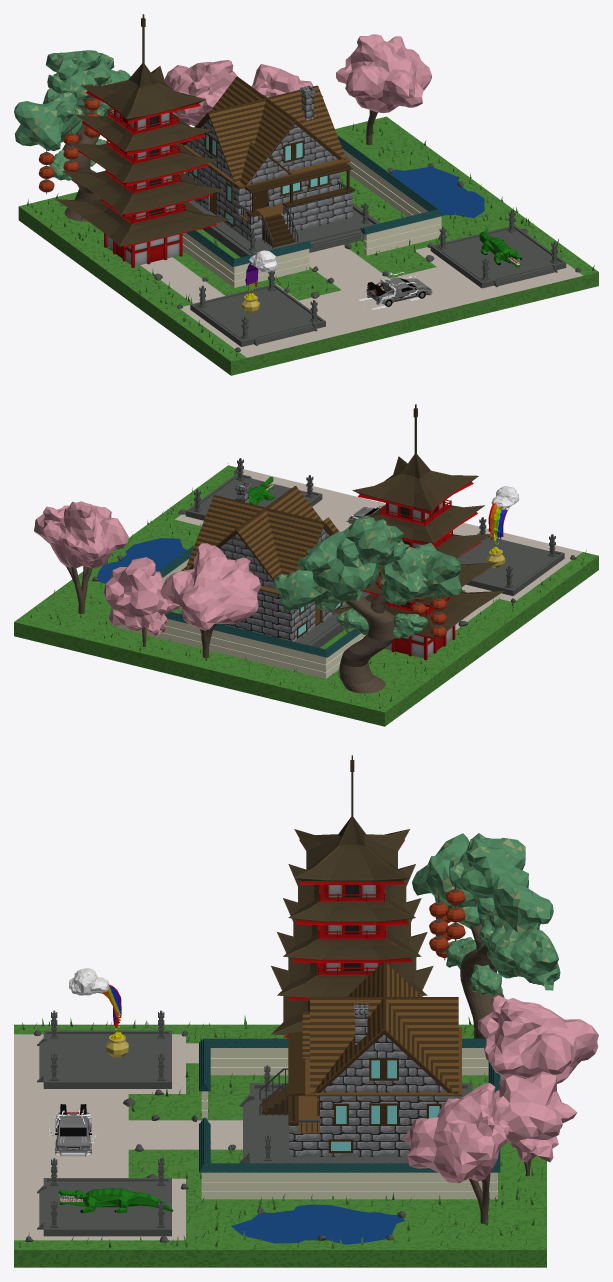
The picture shows the model from 3 angles, top to bottom: view 1: azimuth 30°, elevation 25°; view 2: azimuth 150°, elevation 25°; view 3: azimuth 270°, elevation 25°; orthographic projection. The views are drawn at different scales.
Visible parts, largest first — view 1: Cube.005, Cube.586, VEHICLES_DELOREAN, OBJRANDOM_RAINBOW, ANIMAL_COCODRILO; view 2: Cube.005, Cube.586, OBJRANDOM_RAINBOW, ANIMAL_COCODRILO; view 3: Cube.005, Cube.586, ANIMAL_COCODRILO, VEHICLES_DELOREAN, OBJRANDOM_RAINBOW.
Boxes of the visible parts, left/top/right/bottom form: Cube.005: left=14, top=14, right=598, bottom=375; Cube.586: left=179, top=76, right=355, bottom=248; VEHICLES_DELOREAN: left=359, top=272, right=432, bottom=310; OBJRANDOM_RAINBOW: left=241, top=250, right=277, bottom=313; ANIMAL_COCODRILO: left=479, top=229, right=521, bottom=267; Cube.005: left=14, top=404, right=598, bottom=726; Cube.586: left=181, top=481, right=347, bottom=641; OBJRANDOM_RAINBOW: left=486, top=486, right=519, bottom=568; ANIMAL_COCODRILO: left=235, top=476, right=275, bottom=505; Cube.005: left=14, top=755, right=598, bottom=1267; Cube.586: left=259, top=961, right=461, bottom=1156; ANIMAL_COCODRILO: left=58, top=1188, right=173, bottom=1213; VEHICLES_DELOREAN: left=48, top=1104, right=95, bottom=1156; OBJRANDOM_RAINBOW: left=69, top=968, right=128, bottom=1057.
Size of the model in its own units: 4528 by 2668 by 4389.
47 materials, 6 textured.
